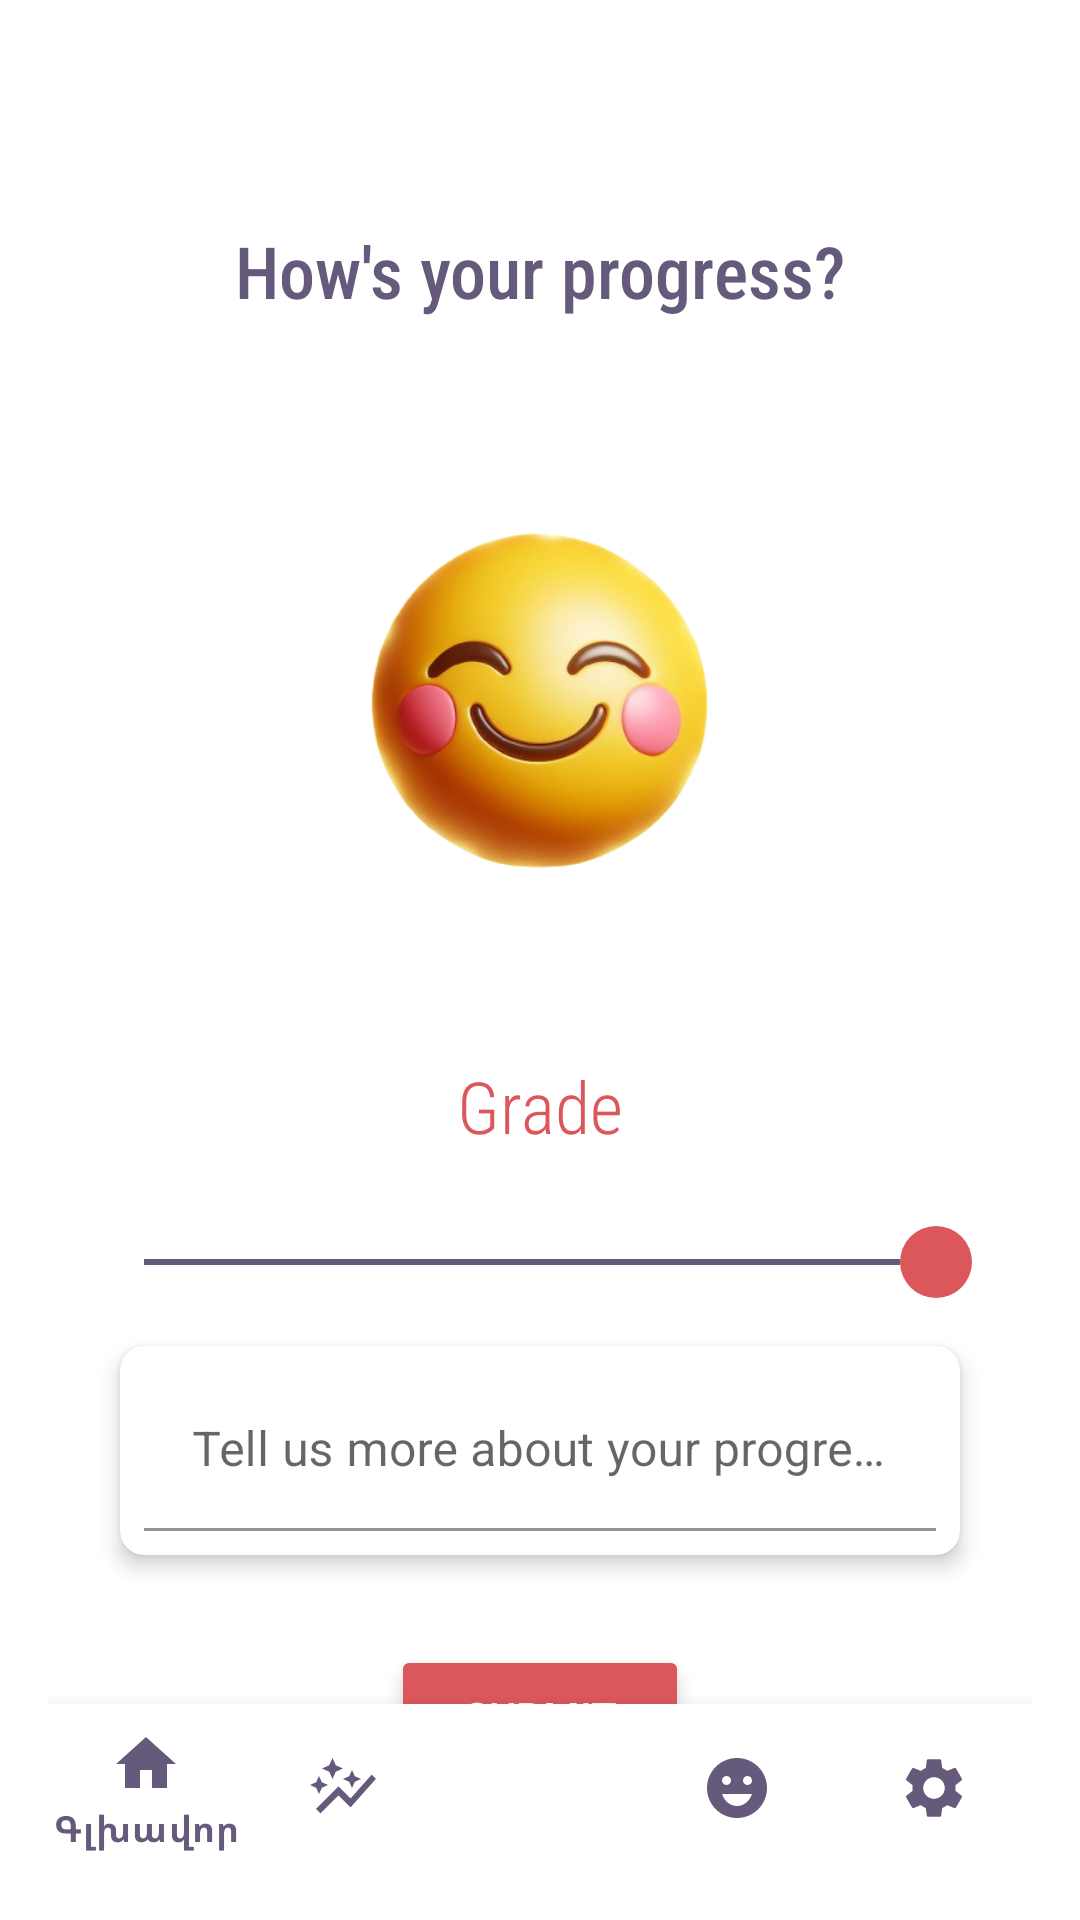

Named icons in this screenshot (1080x1920) and their bounding boxes, (x1, y1, x2, y2):
Image of a happy face: (371, 533, 708, 868)
